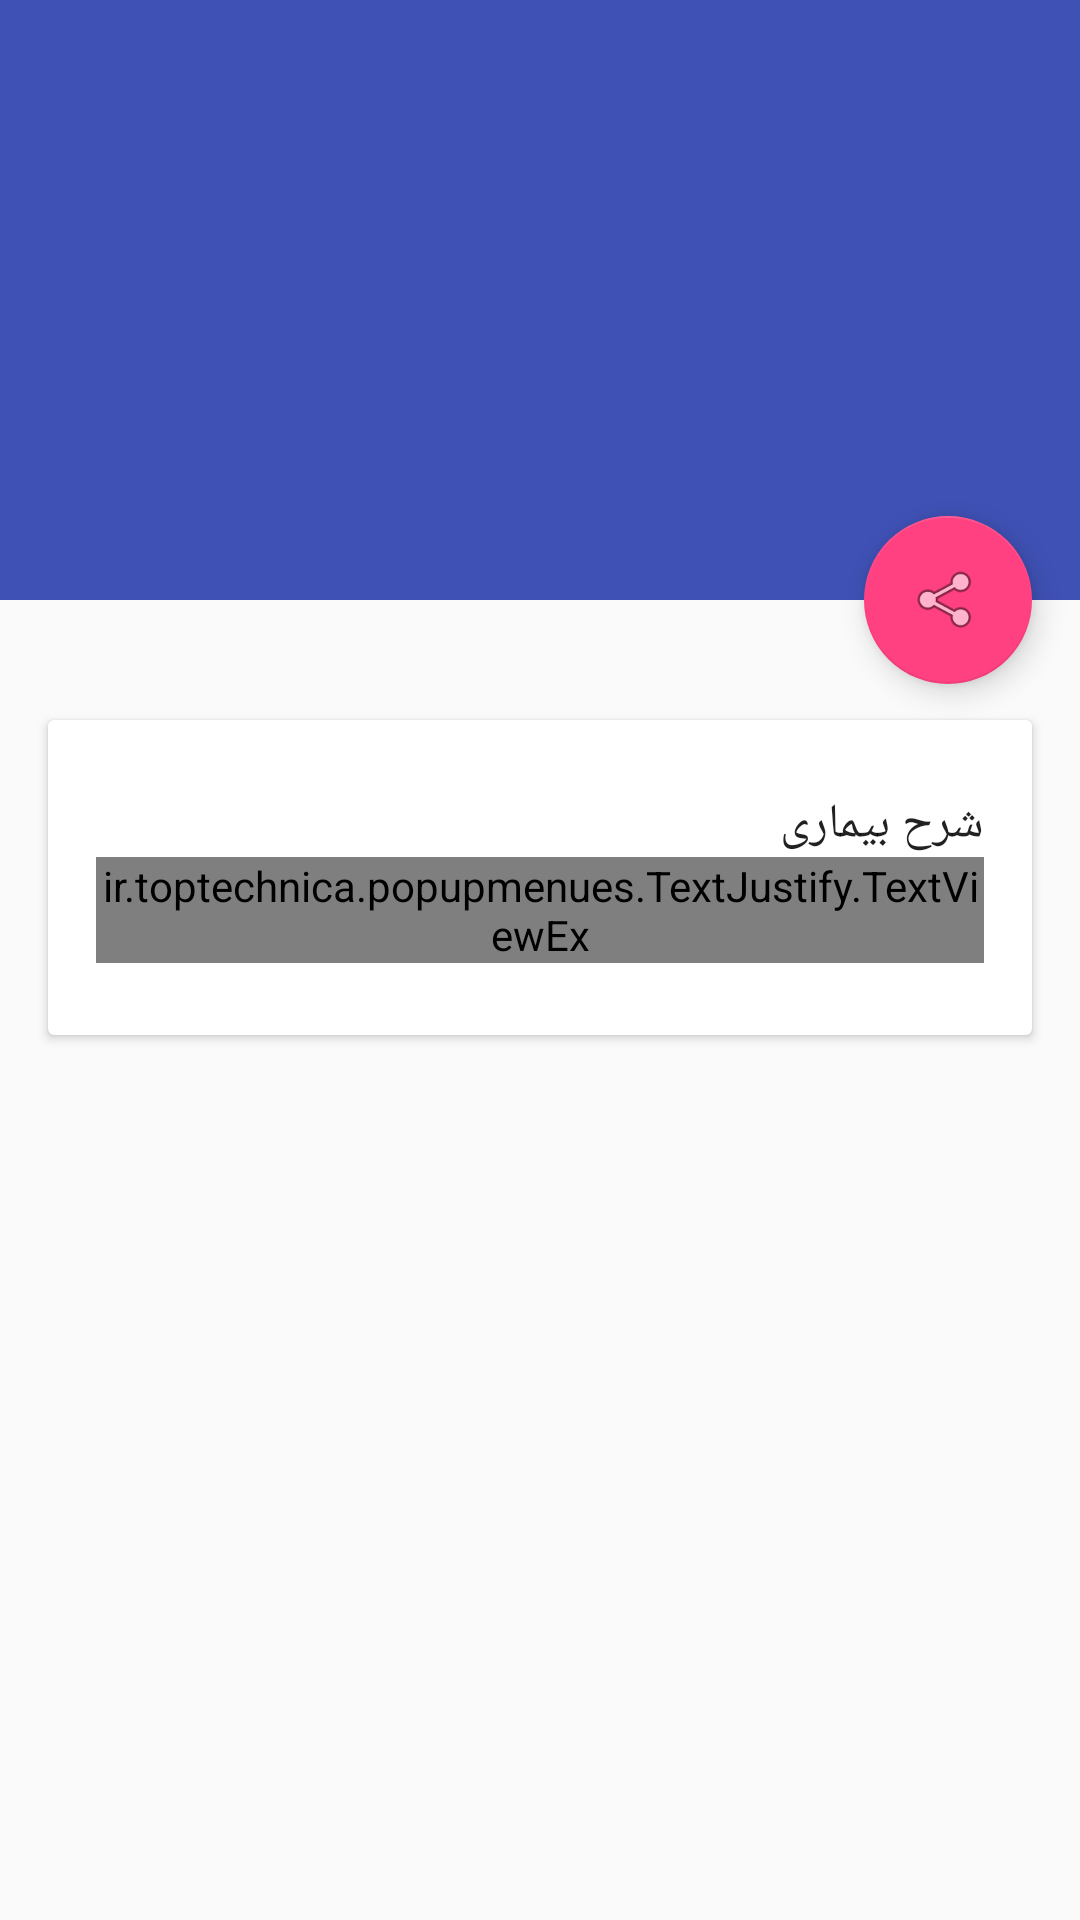

Where to tap for icons on this 1080px×1920px app screen, as [x,y]:
share: [948,600]
